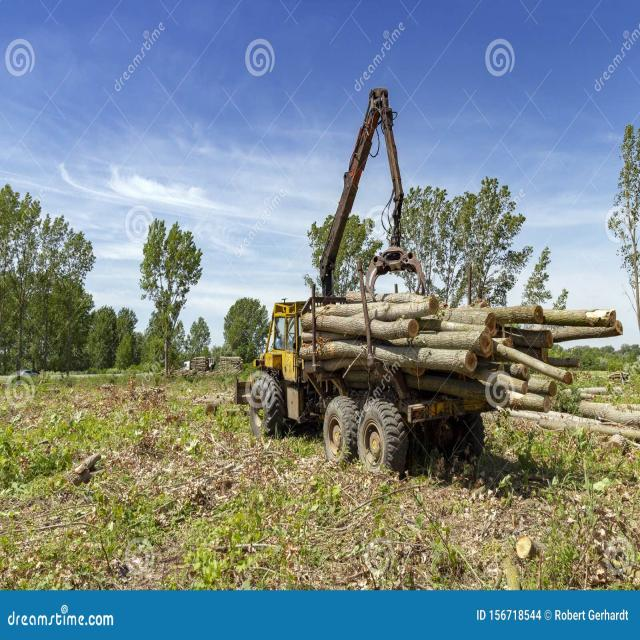Truck: (243, 291, 425, 476)
